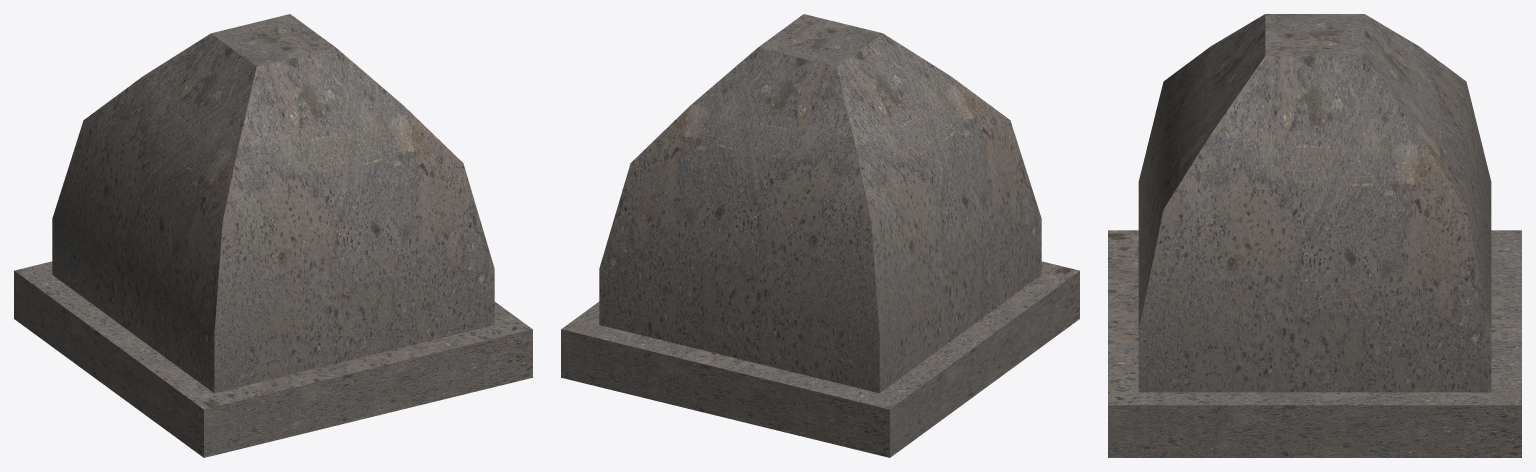
Rendered from Zasłona_4.fbx.
The picture shows the model from 3 angles, left to right: view 1: azimuth 30°, elevation 25°; view 2: azimuth 150°, elevation 25°; view 3: azimuth 270°, elevation 25°; orthographic projection. The views are drawn at different scales.
Parts seen in each view (by area): view 1: Kloc_4; view 2: Kloc_4; view 3: Kloc_4.
Boxes of the visible parts, x1,y1,x2,y2 form: Kloc_4: (14, 14, 532, 457); Kloc_4: (561, 14, 1079, 457); Kloc_4: (1108, 14, 1521, 457).
Bounding box in the file's own units: 23.2 × 20.76 × 23.2.
